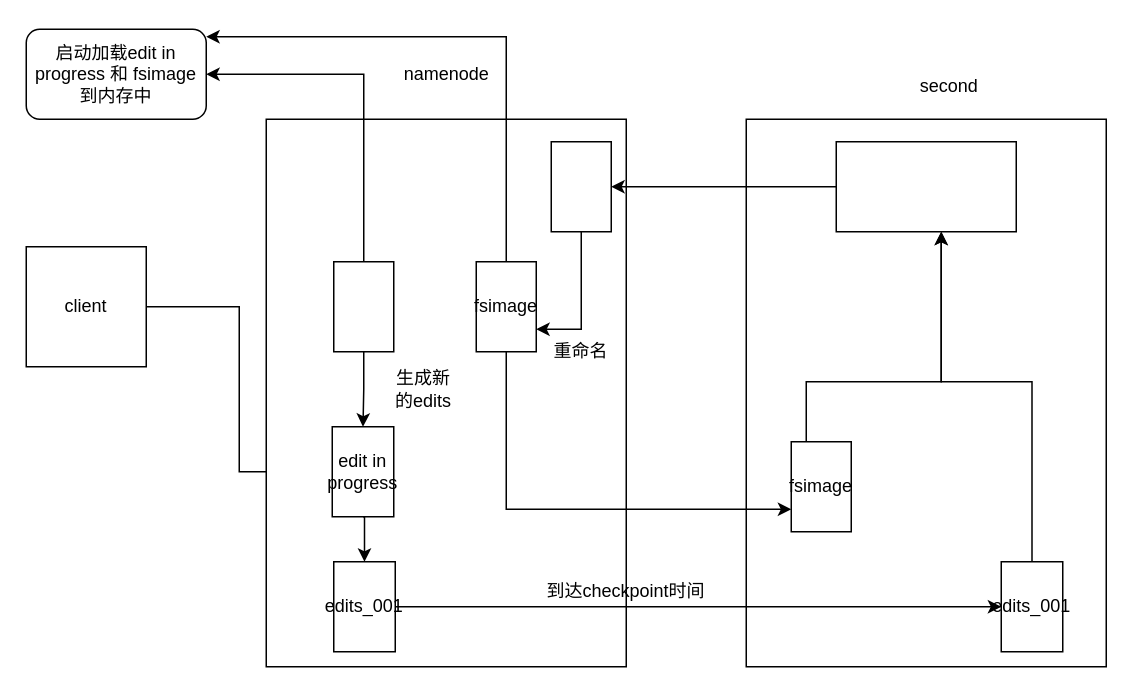
This 1133x693 diagram has some shape labels left out. The shapes that lost their labels are listed below. From the top down, each one's box as (x1, y1, x2, y2) in pixels, then its label:
(550, 140, 611, 232): fsimage.chkpoint
(835, 140, 1016, 232): 加载到内存并合并 fsimage.chkpoint
(332, 260, 394, 352): edit logs
